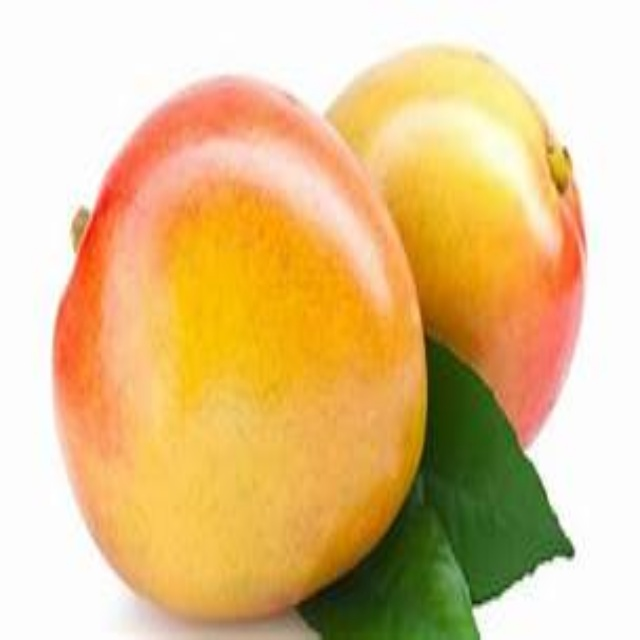mango: (51, 68, 427, 621), (326, 35, 583, 449)
